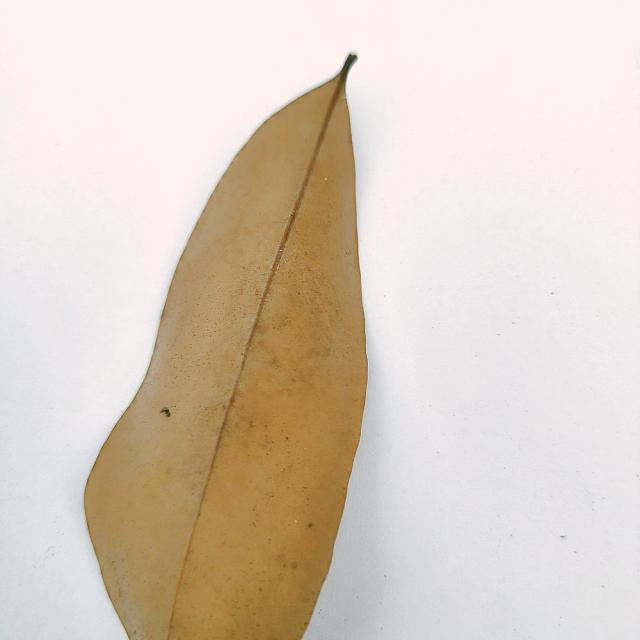Dry_Leaf-Lychee: (83, 57, 369, 639)
